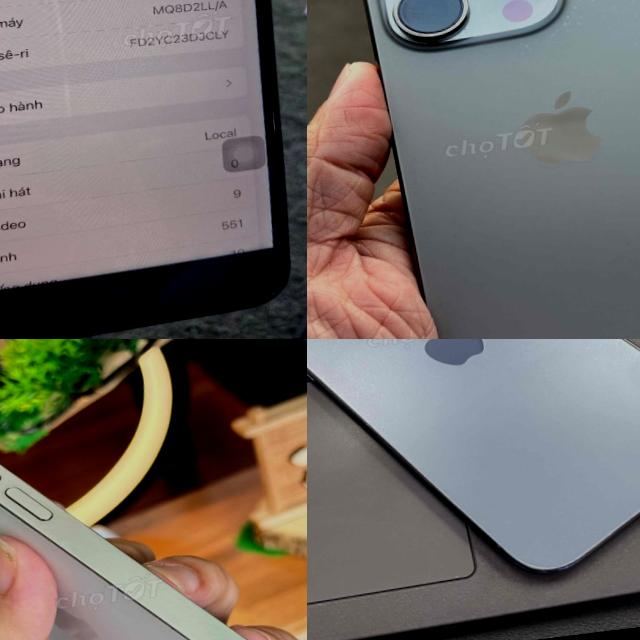scratch: (248, 269, 283, 302)
